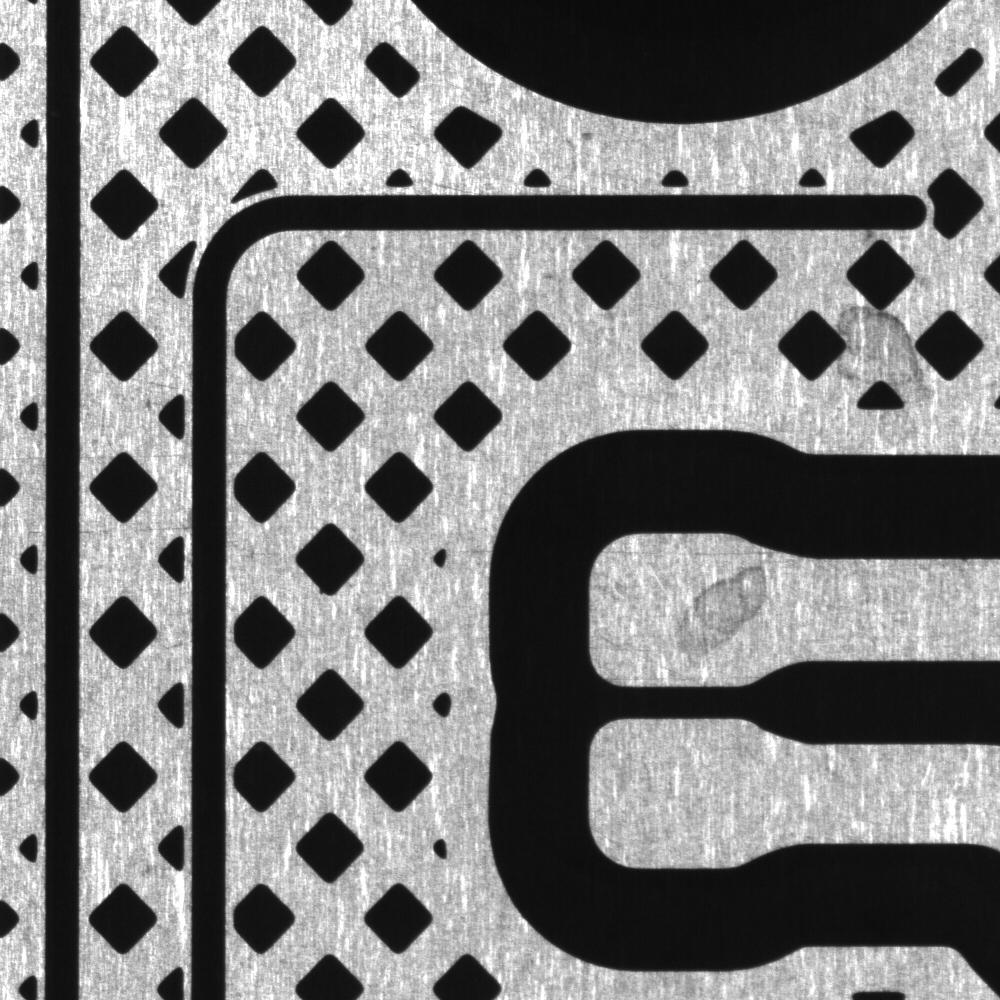Discolor: (830, 301, 936, 401), (666, 566, 767, 661)
Scar: (78, 361, 189, 395), (604, 542, 784, 562), (79, 442, 194, 466), (80, 522, 196, 545)
